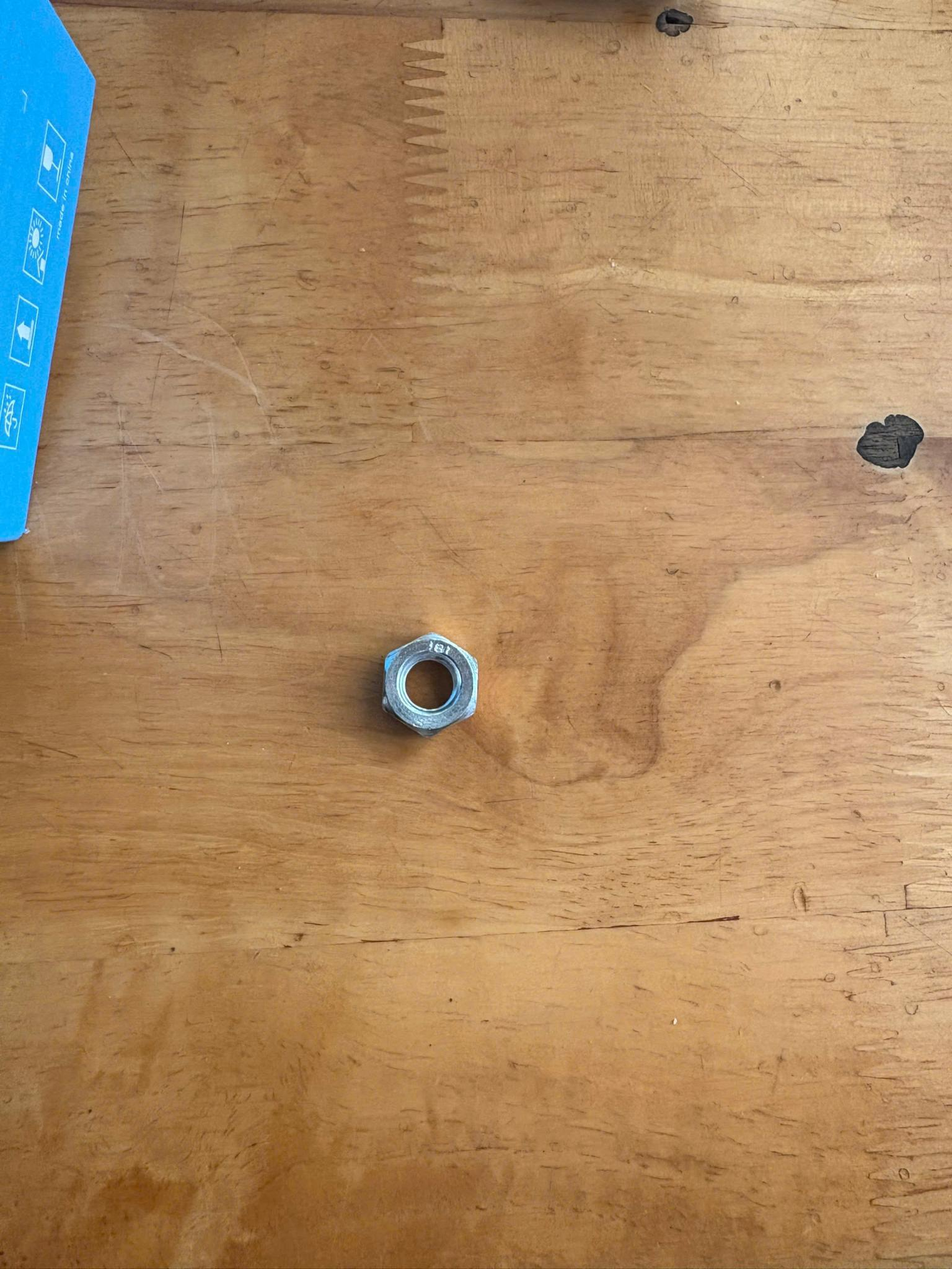nut: (369, 623, 500, 762)
